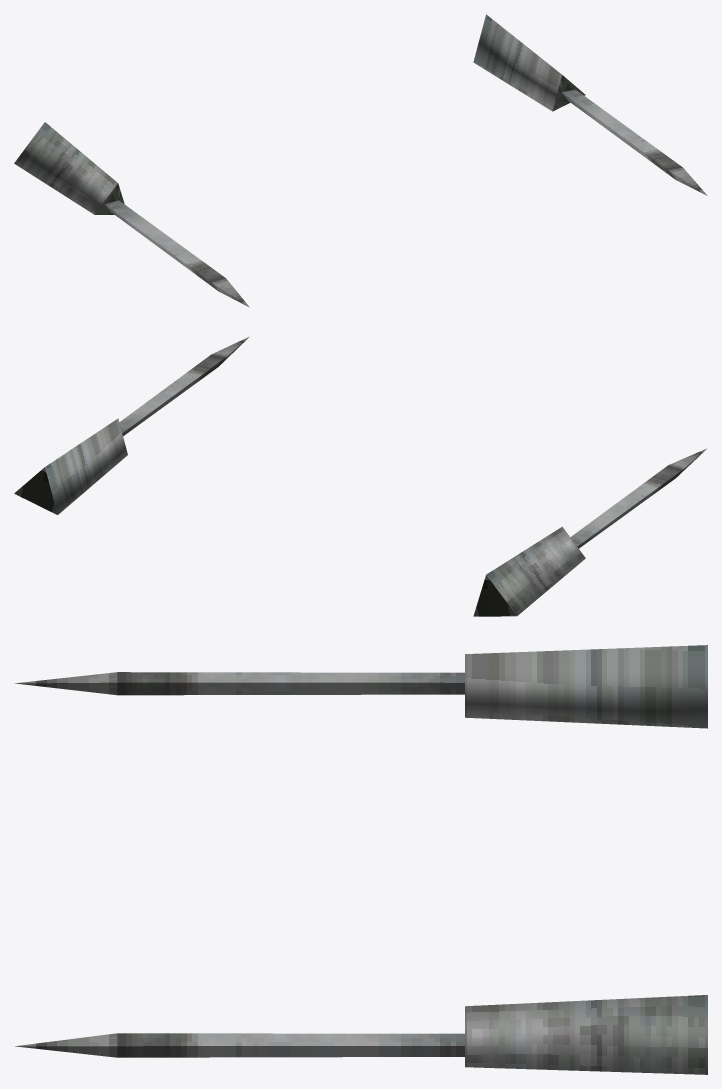
File: black_sun_fighter_heavy_weapon2_s05_l3.fbx
The picture shows the model from 3 angles, top to bottom: view 1: azimuth 30°, elevation 25°; view 2: azimuth 150°, elevation 25°; view 3: azimuth 270°, elevation 25°; orthographic projection. The views are drawn at different scales.
Visible parts, largest first — view 1: mesh_node; view 2: mesh_node; view 3: mesh_node.
Boxes of the visible parts, x1=… form: mesh_node: x1=14, y1=14, x2=707, y2=307; mesh_node: x1=14, y1=336, x2=706, y2=616; mesh_node: x1=15, y1=645, x2=707, y2=1074.
Size of the model in its own units: 5.04 by 0.4322 by 3.71.
Materials: 1 (1 with a texture image).
